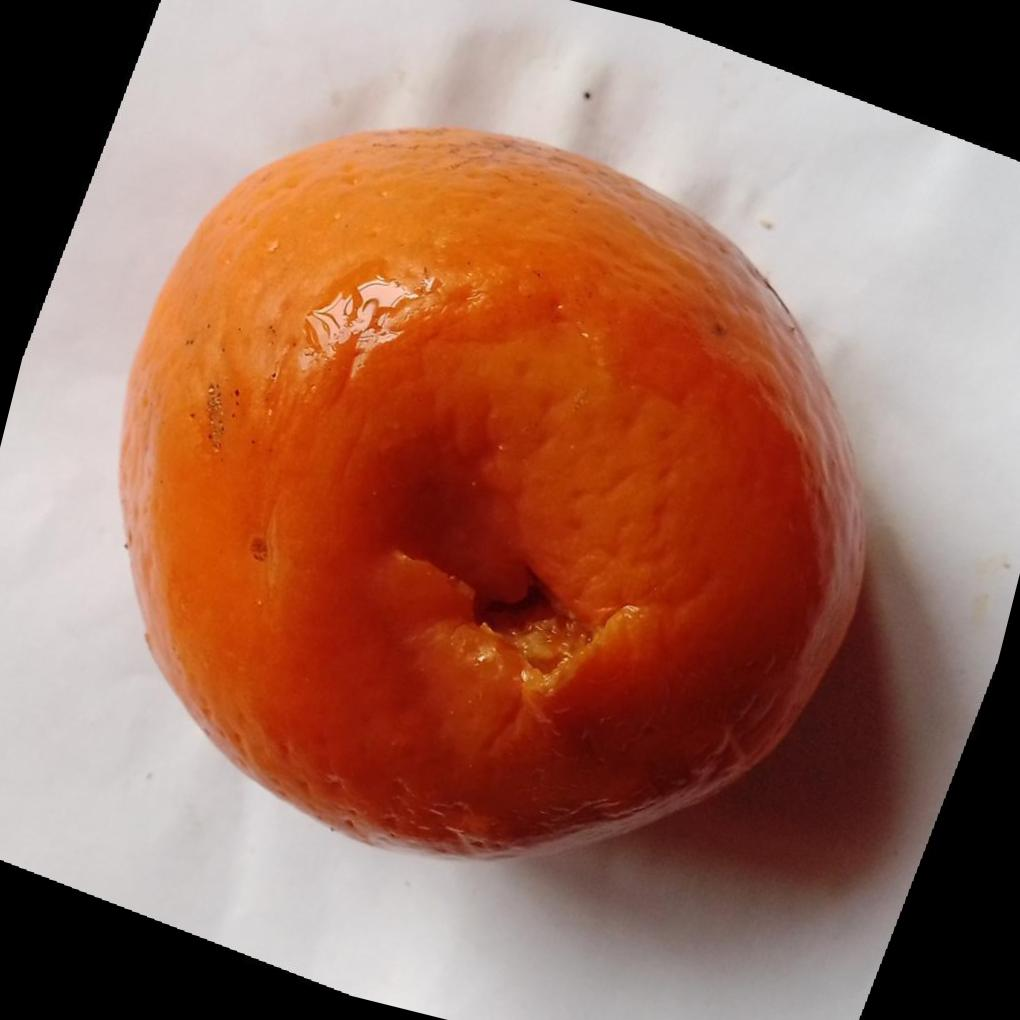FreshOrange: (120, 126, 876, 863)
